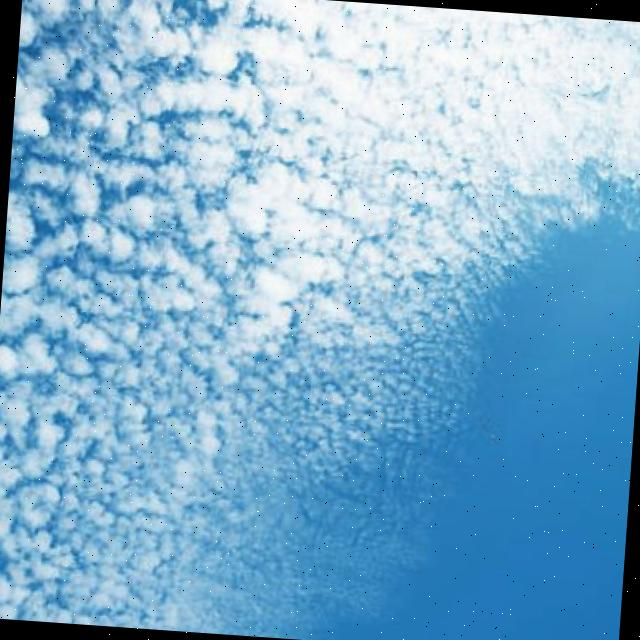Cc: (1, 1, 640, 578)
